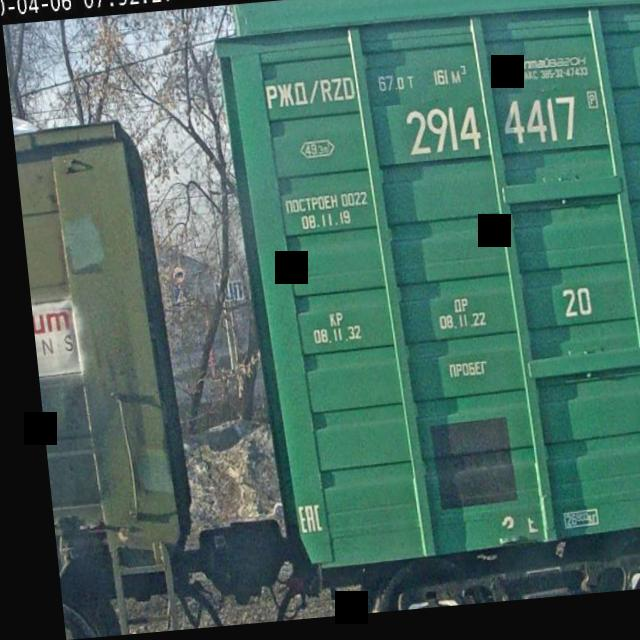boxcar: (208, 0, 640, 625)
gondola: (8, 88, 204, 640)
